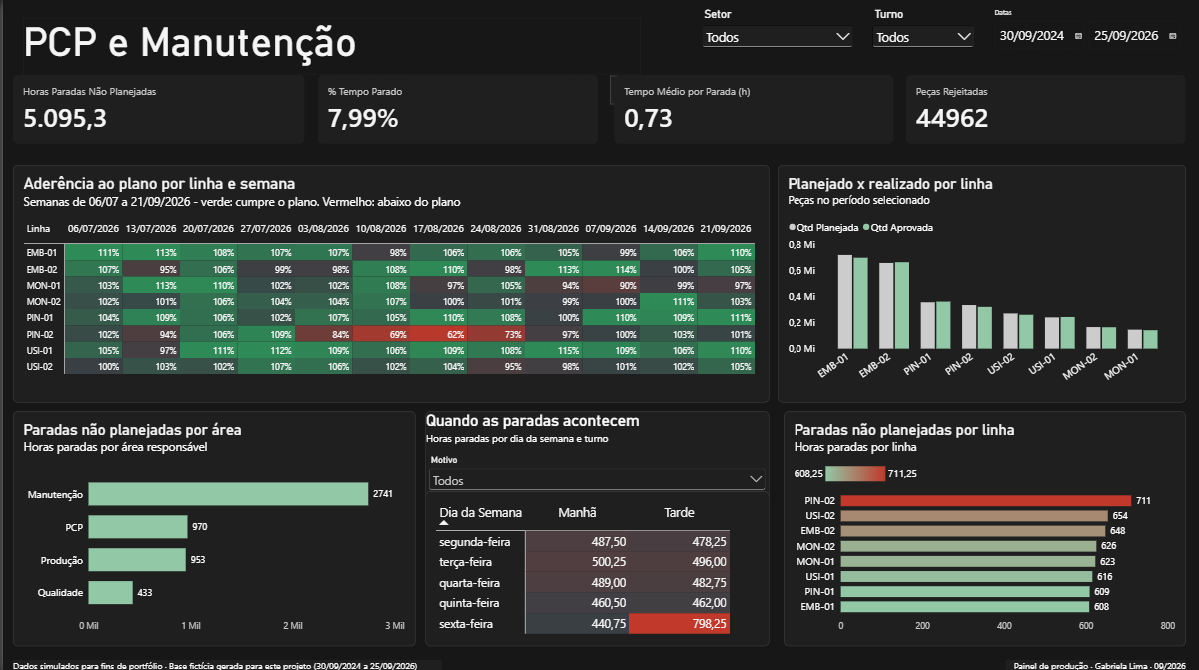

This screenshot's page, from the dashboard's own definition file:
{"tool":"powerbi","page":{"name":"PCP e Manutenção","canvas":[2140,1080],"ordinal":2},"visuals":[{"type":"slicer","fields":{"Values":["Turno.Turno"]},"box":[1456,56,172,70],"z":0},{"type":"slicer","fields":{"Values":["LinhaSetor.Setor"]},"box":[1135,55,252.5,57.5],"z":1000},{"type":"slicer","fields":{"Values":["Calendario.Datas"]},"box":[1770,42,370,86],"z":2000},{"type":"cardVisual","fields":{"Data":["Paradas.Horas Paradas Não Planejadas"]},"box":[426.7,120,276.7,110],"z":3000},{"type":"cardVisual","fields":{"Data":["Calendario.% Tempo Parado NP"]},"box":[900,120,448,110],"z":4000},{"type":"cardVisual","fields":{"Data":["Calendario.Tempo Médio por Parada (h)"]},"box":[1348.3,120,260,110],"z":5000},{"type":"cardVisual","fields":{"Data":["Calendario.Qtd Rejeitada"]},"box":[1783.3,120,250,110],"z":6000},{"type":"pivotTable","title":"Aderência ao plano por linha e semana","fields":{"Columns":["Calendario.Semana_Inicio"],"Rows":["LinhaSetor.Linha"],"Values":["Calendario.Aderência ao Plano"]},"box":[302,246,902,380],"z":7000},{"type":"clusteredBarChart","title":"Paradas não planejadas por área","fields":{"Category":["Motivo.Area_Responsavel"],"Y":["Paradas.Horas Paradas Não Planejadas"]},"box":[1520,645,602.5,405],"z":8000},{"type":"clusteredBarChart","title":"Paradas não planejadas por linha","fields":{"Category":["LinhaSetor.Linha"],"Y":["Paradas.Horas Paradas Não Planejadas"]},"box":[305,645,626,406],"z":9000},{"type":"slicer","title":"Quando as paradas acontecem","fields":{"Values":["Motivo.Motivo"]},"box":[945,642.5,557.5,142.5],"z":10000},{"type":"pivotTable","fields":{"Columns":["Turno.Turno"],"Rows":["Calendario.Dia da Semana"],"Values":["Paradas.Horas Paradas Não Planejadas"]},"box":[950,785,552.5,265],"z":11000},{"type":"lineStackedColumnComboChart","title":"Pareto das paradas não planejadas","fields":{"Category":["Motivo.Motivo"],"Y":["Paradas.Horas Paradas Não Planejadas"],"Y2":["Calendario.% Acumulado (Pareto)"]},"box":[1222.5,245,900,380],"z":12000},{"type":"actionButton","box":[0,436,282,104],"z":13000},{"type":"actionButton","box":[0,540,282,104],"z":14000},{"type":"actionButton","box":[0,332,282,104],"z":15000},{"type":"actionButton","box":[0,645,282,104],"z":15001}]}

Visuals, with their boxes on the page's 2140x1080 design canvas (x1, y1, x2, y2). These are canvas units, not pixel positions in the 1199x670 screenshot, which may show the page scaled, cropped or inside an application window:
slicer - Turno.Turno: <region>1456, 56, 1628, 126</region>
slicer - LinhaSetor.Setor: <region>1135, 55, 1388, 112</region>
slicer - Calendario.Datas: <region>1770, 42, 2140, 128</region>
cardVisual - Paradas.Horas Paradas Não Planejadas: <region>427, 120, 703, 230</region>
cardVisual - Calendario.% Tempo Parado NP: <region>900, 120, 1348, 230</region>
cardVisual - Calendario.Tempo Médio por Parada (h): <region>1348, 120, 1608, 230</region>
cardVisual - Calendario.Qtd Rejeitada: <region>1783, 120, 2033, 230</region>
"Aderência ao plano por linha e semana" pivotTable: <region>302, 246, 1204, 626</region>
"Paradas não planejadas por área" clusteredBarChart: <region>1520, 645, 2122, 1050</region>
"Paradas não planejadas por linha" clusteredBarChart: <region>305, 645, 931, 1051</region>
"Quando as paradas acontecem" slicer: <region>945, 642, 1502, 785</region>
pivotTable - Turno.Turno x Calendario.Dia da Semana: <region>950, 785, 1502, 1050</region>
"Pareto das paradas não planejadas" lineStackedColumnComboChart: <region>1222, 245, 2122, 625</region>
actionButton: <region>0, 436, 282, 540</region>
actionButton: <region>0, 540, 282, 644</region>
actionButton: <region>0, 332, 282, 436</region>
actionButton: <region>0, 645, 282, 749</region>
